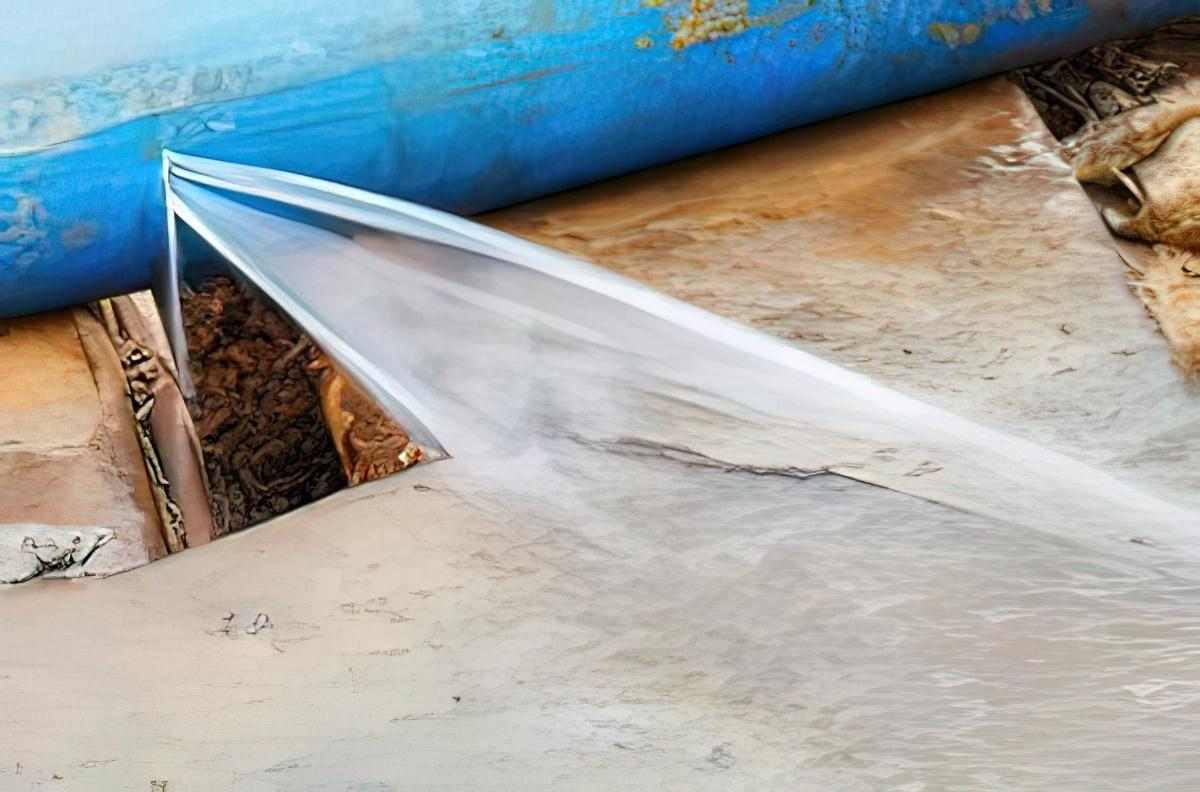pipe burst: (158, 146, 1200, 552)
